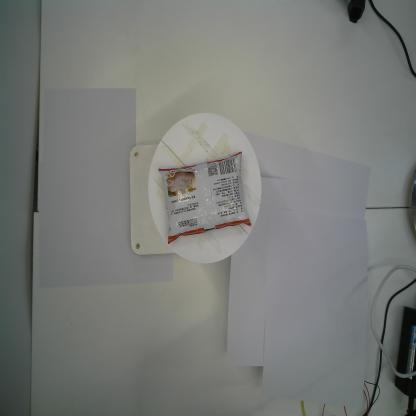Seasoner: (158, 150, 252, 245)
